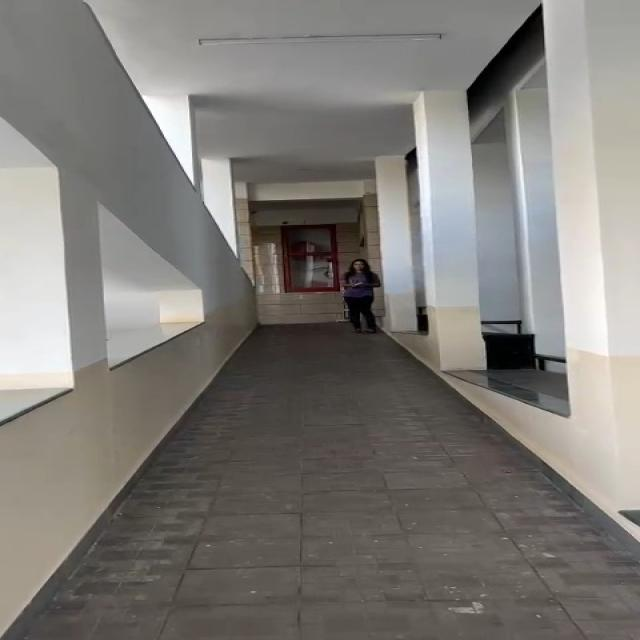floor: (110, 488, 640, 640), (230, 320, 407, 495)
moving_object: (326, 260, 379, 339)
wall: (0, 0, 268, 383), (408, 53, 640, 412)
